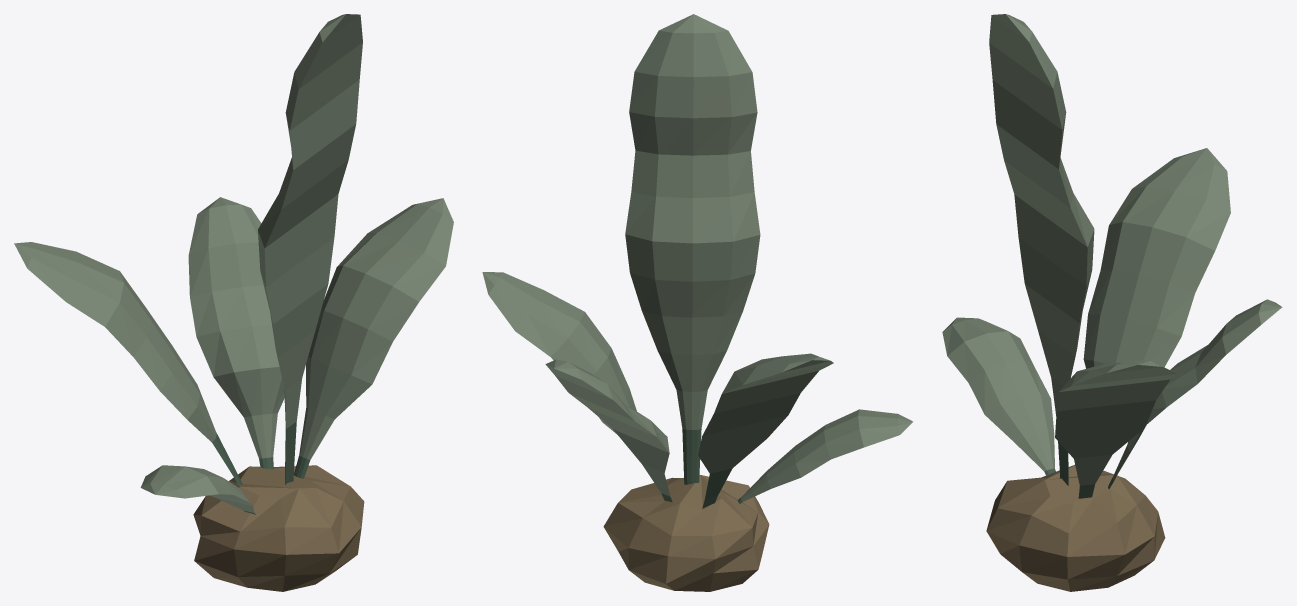
File: reef_algae_frond.glb
3 renders of one model, left to right at view 1: azimuth 30°, elevation 25°; view 2: azimuth 150°, elevation 25°; view 3: azimuth 270°, elevation 25°, orthographic. The views are drawn at different scales.
Parts seen in each view (by area): view 1: ReefAlgaeFrond; view 2: ReefAlgaeFrond; view 3: ReefAlgaeFrond.
Part boxes in pixels (box(x1,y1,x2,y2)): ReefAlgaeFrond: box(14, 14, 453, 591); ReefAlgaeFrond: box(482, 14, 912, 591); ReefAlgaeFrond: box(942, 14, 1282, 591).
Bounding box in the file's own units: 0.5892 × 0.8064 × 0.4382.
